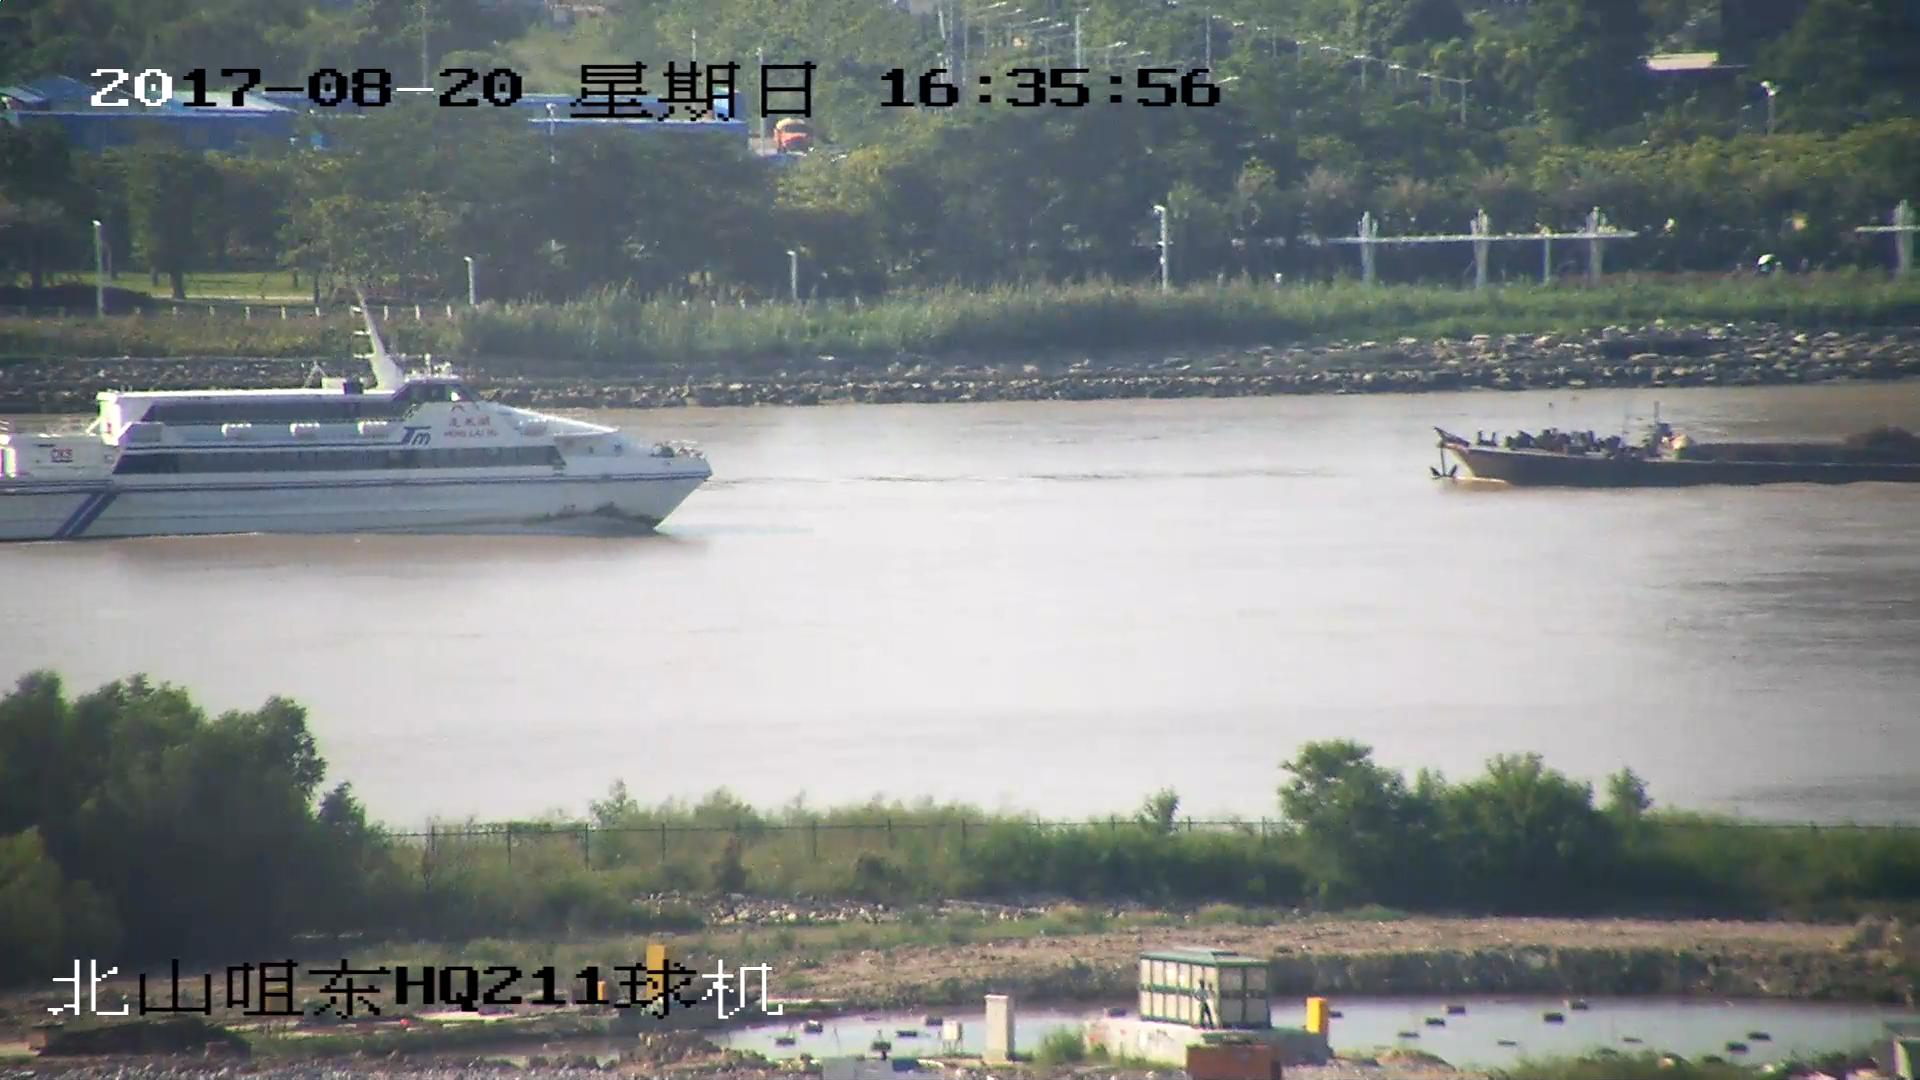ore carrier: (1432, 417, 1920, 491)
passenger ship: (1, 298, 722, 543)
